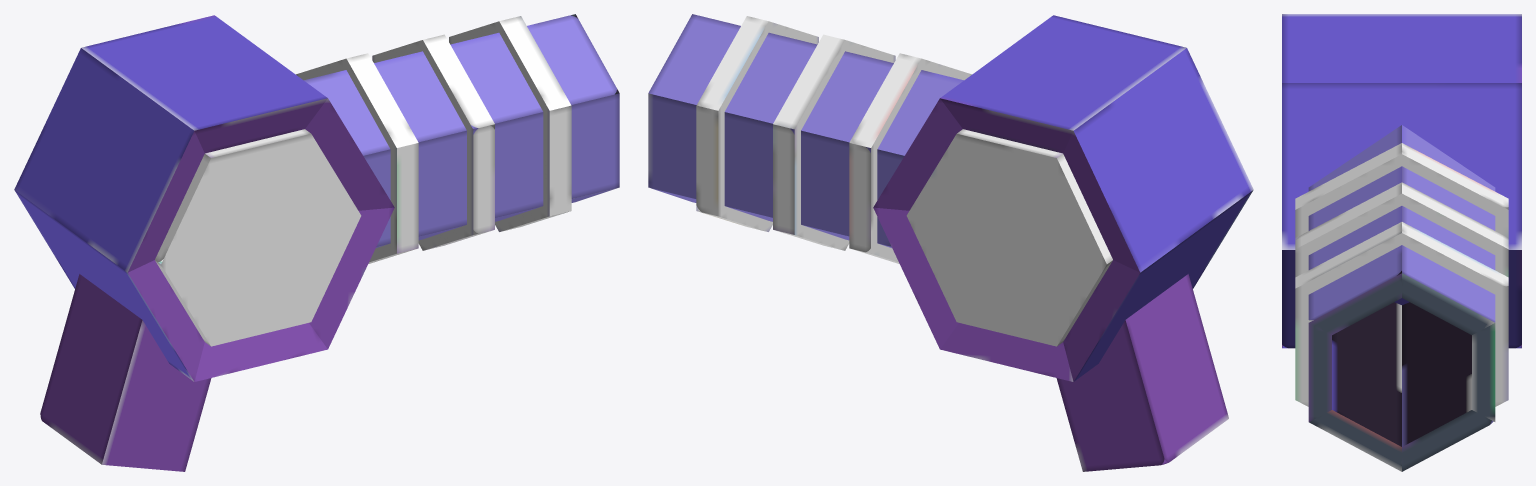
File: ARCarnivalGun.fbx
The picture shows the model from 3 angles, left to right: view 1: azimuth 30°, elevation 25°; view 2: azimuth 150°, elevation 25°; view 3: azimuth 270°, elevation 25°; orthographic projection. The views are drawn at different scales.
Visible parts, largest first — view 1: GunBody, GunCannon, GunCore, cube, GunRing3, GunRing1, GunRing2; view 2: GunBody, GunCannon, GunCore, cube, GunRing3, GunRing1, GunRing2; view 3: GunCannon, GunBody, GunRing3, GunRing1, GunRing2.
Part boxes in pixels (box(x1,y1,x2,y2)): GunBody: box(14, 15, 394, 381); GunCannon: box(304, 14, 619, 247); GunCore: box(155, 129, 361, 346); cube: box(40, 261, 211, 471); GunRing3: box(449, 16, 571, 231); GunRing1: box(372, 34, 494, 250); GunRing2: box(296, 53, 418, 263); GunBody: box(873, 15, 1253, 381); GunCannon: box(648, 14, 963, 247); GunCore: box(906, 129, 1112, 346); cube: box(1056, 274, 1228, 471); GunRing3: box(696, 16, 818, 231); GunRing1: box(773, 34, 895, 250); GunRing2: box(849, 53, 971, 263); GunCannon: box(1308, 125, 1495, 471); GunBody: box(1282, 14, 1521, 348); GunRing3: box(1295, 222, 1508, 406); GunRing1: box(1295, 182, 1508, 277); GunRing2: box(1295, 143, 1508, 237).
Size of the model in its own units: 289 by 199 by 113.
1 material, 1 textured.
